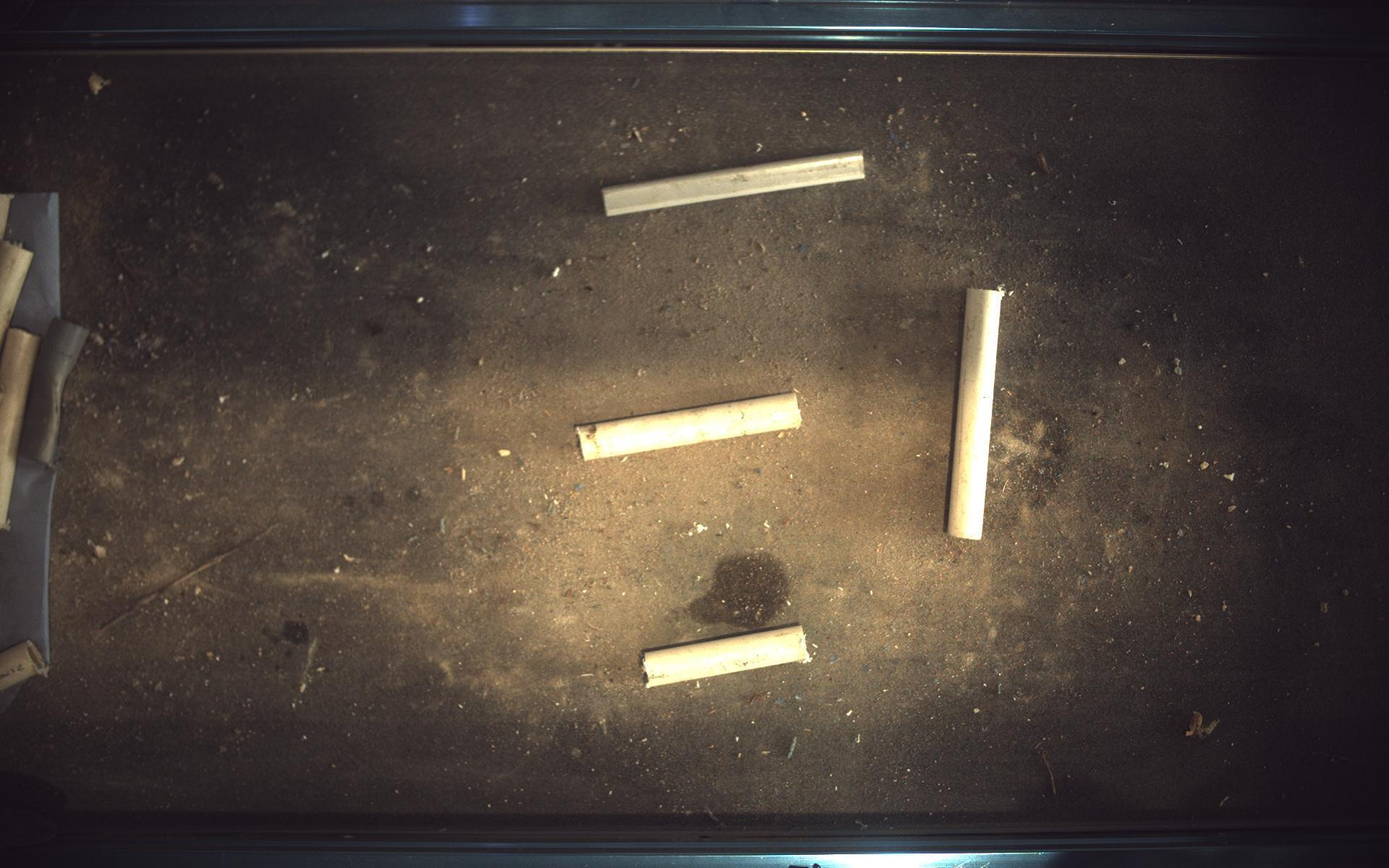pipes: (577, 393, 803, 461), (949, 288, 1006, 540), (643, 626, 812, 689), (17, 318, 88, 467), (1, 328, 38, 529), (1, 193, 32, 346), (1, 641, 47, 692)
plastic: (603, 150, 867, 216)
